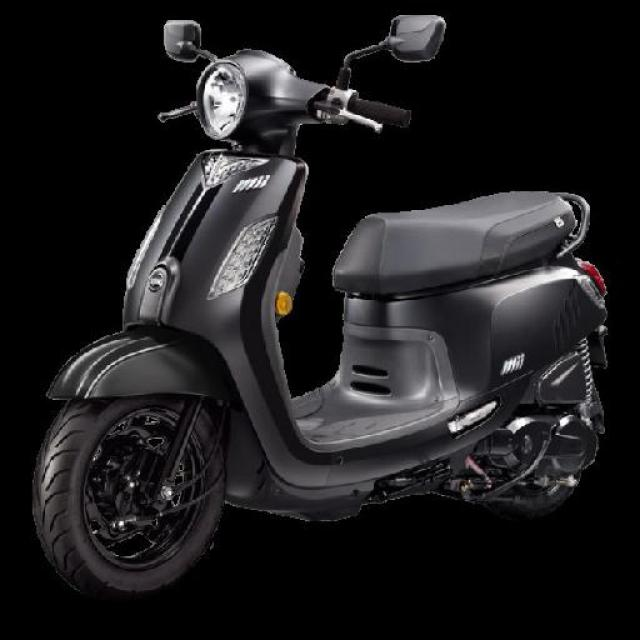All: (22, 46, 617, 592)
Head: (150, 53, 411, 145)
Tail: (522, 180, 603, 270)
